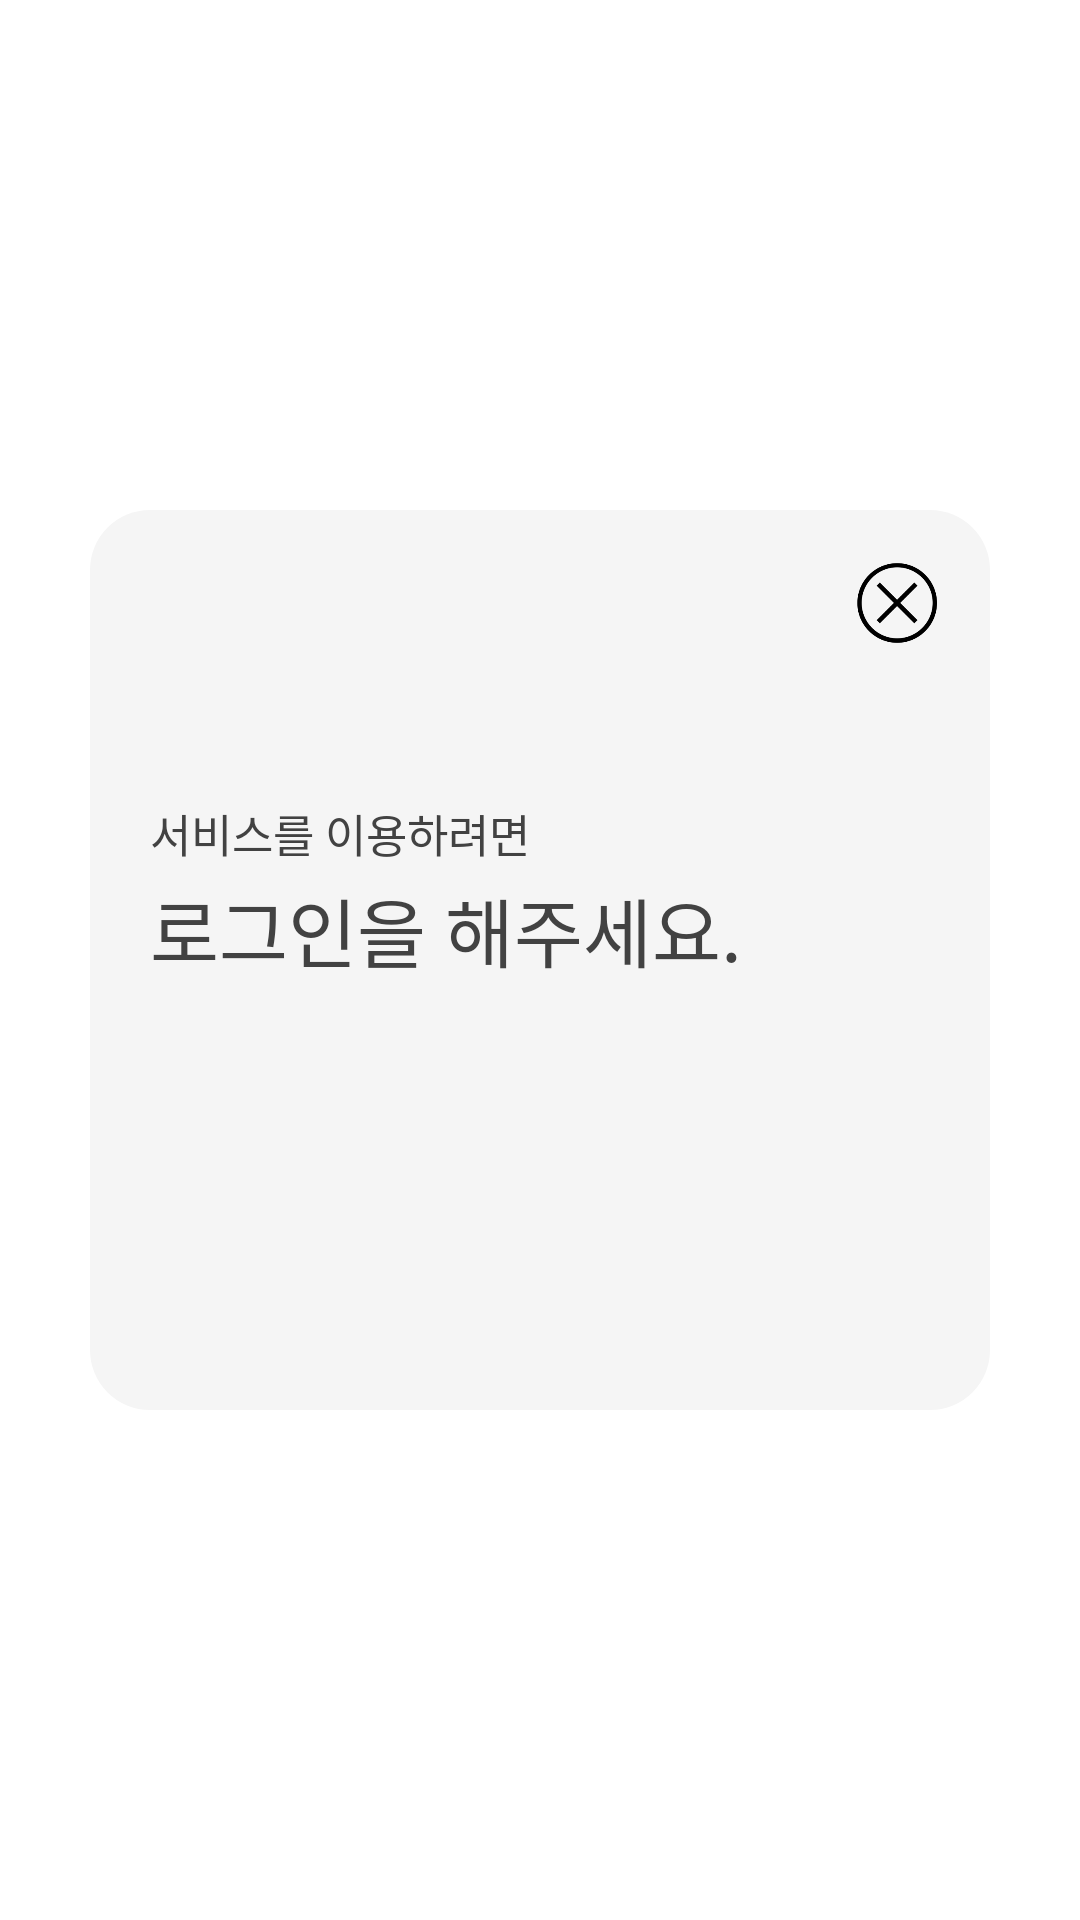

Icons on this 1080w x 1920h Android screen, each with its box as box(x1, y1, x2, y2):
close: box(857, 563, 937, 643)
